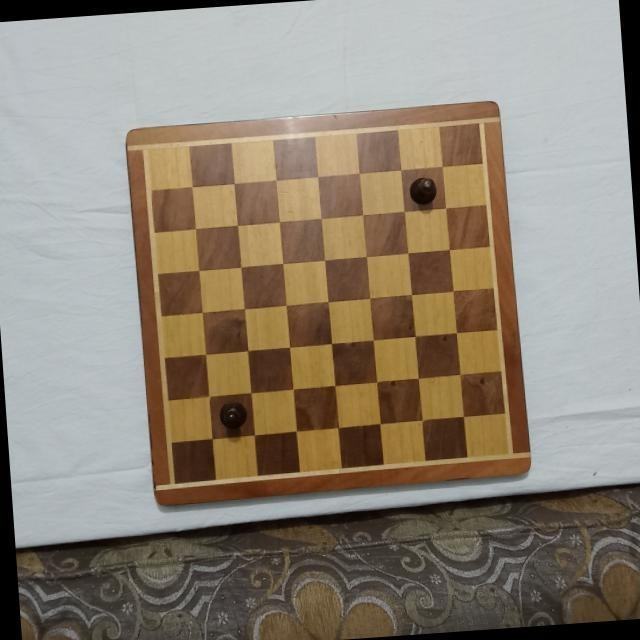black-pawn: (407, 174, 437, 206), (218, 399, 249, 429)
